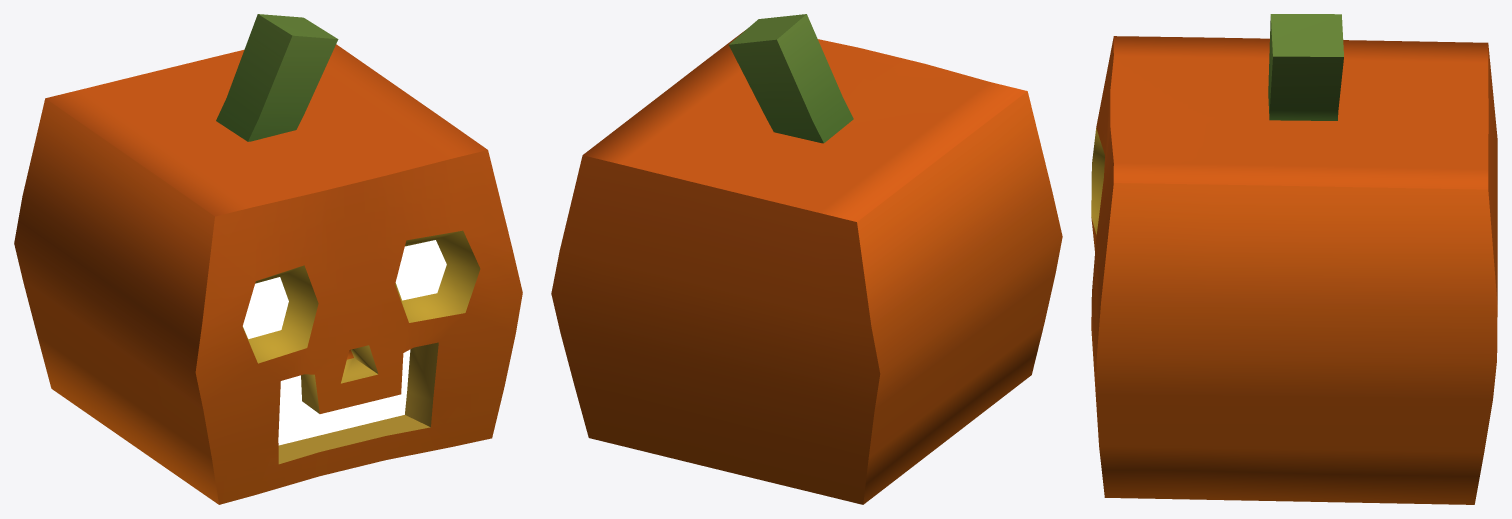
File: pumpkin.fbx
3 views of the same model, side by side, from view 1: azimuth 30°, elevation 25°; view 2: azimuth 150°, elevation 25°; view 3: azimuth 270°, elevation 25° (orthographic). The views are drawn at different scales.
Visible parts, largest first — view 1: pumpkin; view 2: pumpkin; view 3: pumpkin.
Boxes of the visible parts, x1,y1,x2,y2 form: pumpkin: [14, 14, 522, 504]; pumpkin: [551, 14, 1062, 504]; pumpkin: [1091, 14, 1497, 504].
Bounding box in the file's own units: 0.577 × 0.6478 × 0.5627.
